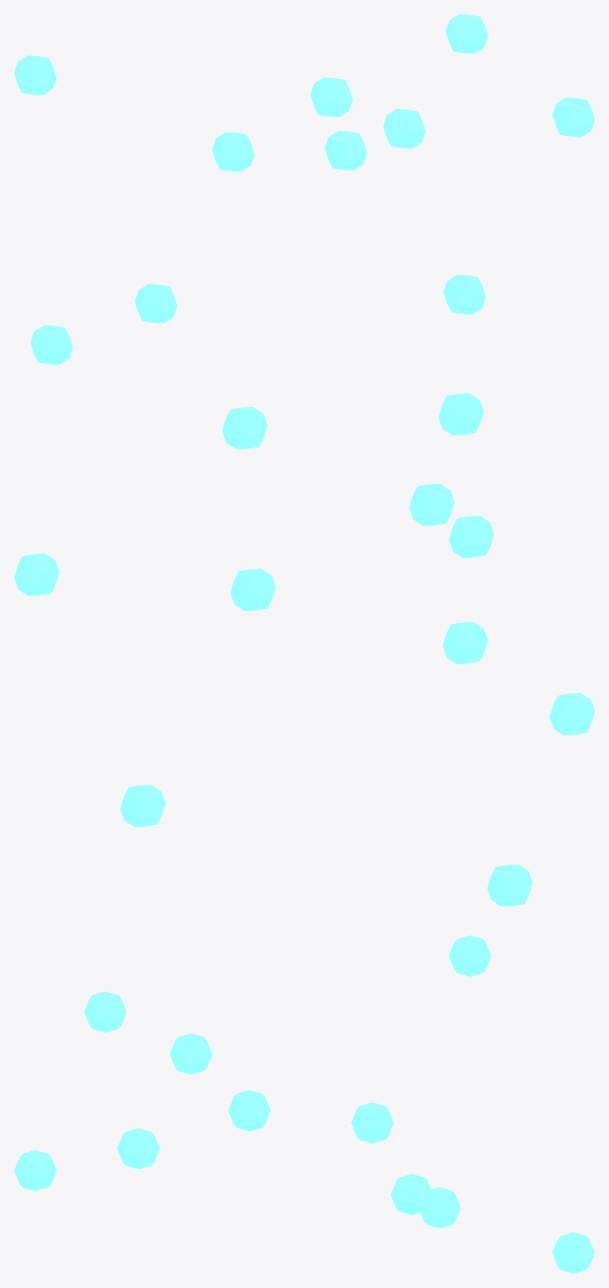
Rendered from Gluhwurmche1.fbx.
3 views of the same model, one above another, from view 1: azimuth 30°, elevation 25°; view 2: azimuth 150°, elevation 25°; view 3: azimuth 270°, elevation 25° (orthographic). The views are drawn at different scales.
Visible parts, largest first — view 1: 立方体, 立方体.009; view 2: 立方体.009, 立方体; view 3: 立方体, 立方体.009.
Part boxes in pixels (x1,y1,x2,y2): 立方体: (14,55,594,323); 立方体.009: (30,14,487,364); 立方体.009: (14,393,532,906); 立方体: (222,407,594,735); 立方体: (14,935,491,1191); 立方体.009: (84,991,594,1273).
Size of the model in its own units: 163 by 106 by 176.
